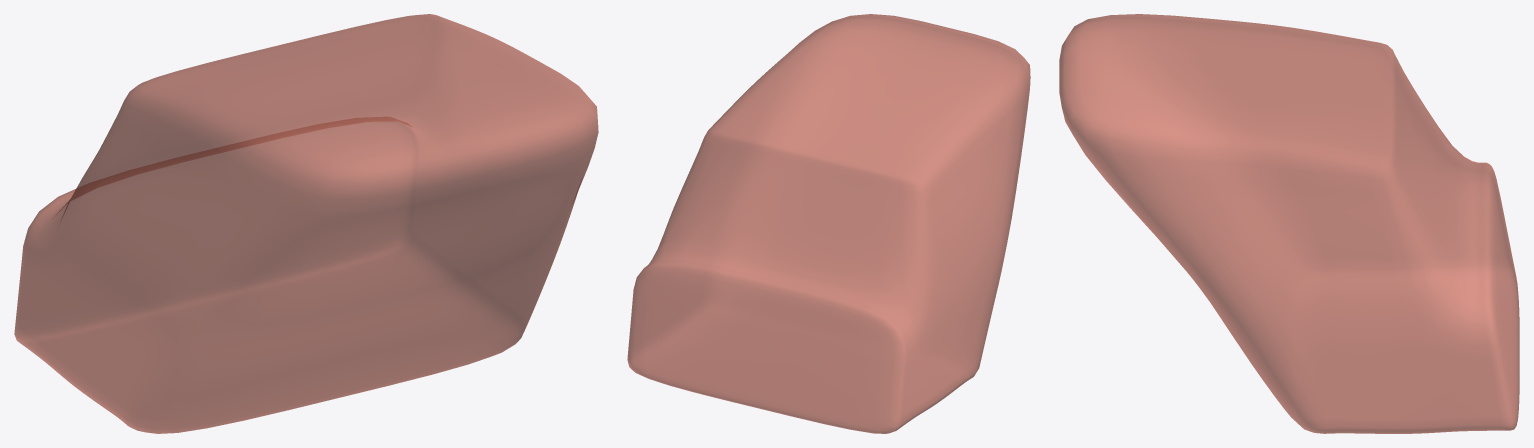
The model's file is VESPA.fbx.
The picture shows the model from 3 angles, left to right: view 1: azimuth 30°, elevation 25°; view 2: azimuth 150°, elevation 25°; view 3: azimuth 270°, elevation 25°; orthographic projection. The views are drawn at different scales.
Visible parts, largest first — view 1: Cube.011; view 2: Cube.011; view 3: Cube.011.
Part boxes in pixels (x1,y1,x2,y2): Cube.011: (14,14,598,433); Cube.011: (627,14,1030,433); Cube.011: (1059,14,1519,433).
Bounding box in the file's own units: 70.3 × 62.46 × 85.62.
